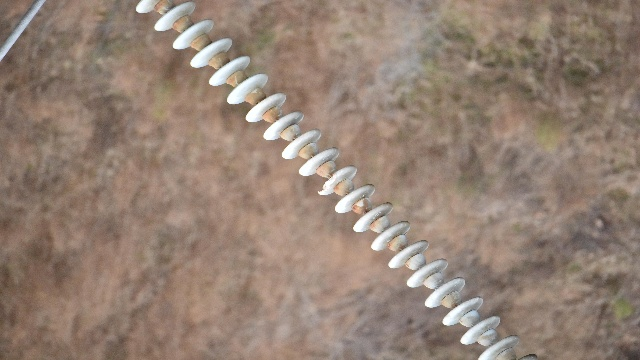broken_local: (316, 169, 342, 196)
insulator_unspecified: (136, 0, 540, 359)
